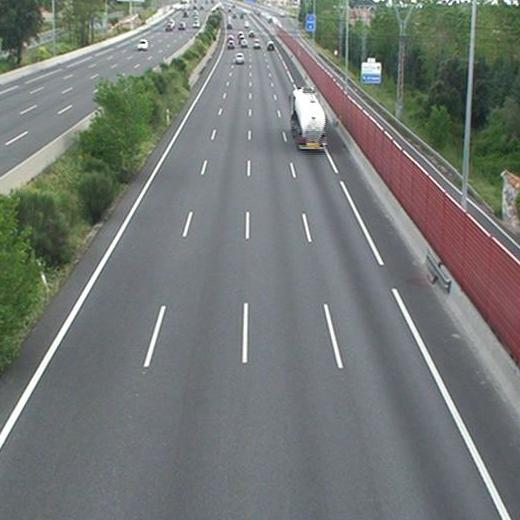car: (235, 53, 245, 63), (266, 41, 275, 51)
tank-truck: (290, 89, 327, 150)
